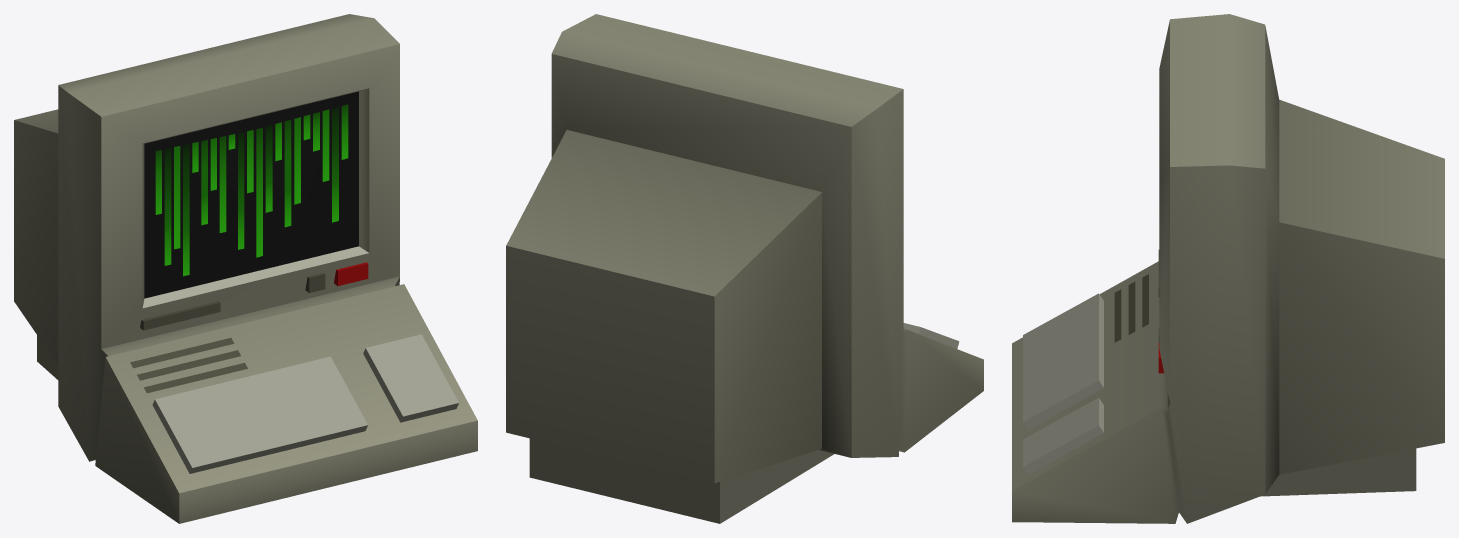
Rendered from grenade_Matrix.glb.
3 renders of one model, left to right at view 1: azimuth 30°, elevation 25°; view 2: azimuth 150°, elevation 25°; view 3: azimuth 270°, elevation 25°, orthographic. The views are drawn at different scales.
Parts seen in each view (by area): view 1: grenade_Matrix; view 2: grenade_Matrix; view 3: grenade_Matrix.
Boxes of the visible parts, box(x1,y1,x2,y2) form: grenade_Matrix: box(14, 14, 477, 523); grenade_Matrix: box(506, 14, 983, 523); grenade_Matrix: box(1012, 14, 1444, 523).
Size of the model in its own units: 0.1348 by 0.1488 by 0.1627.
